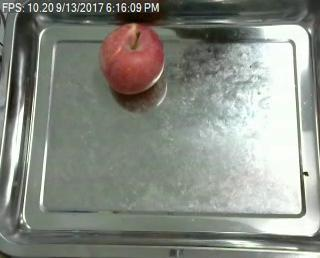apple: (100, 23, 165, 95)
